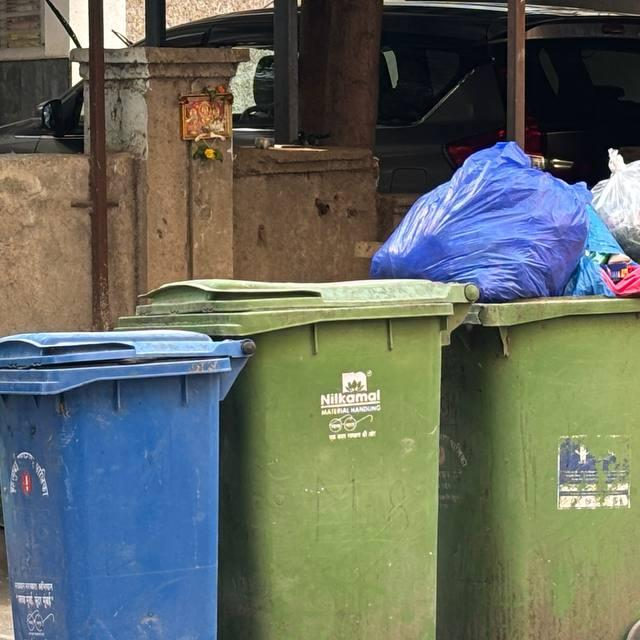plastic: (228, 294, 450, 640), (0, 356, 228, 640), (482, 296, 640, 640), (368, 138, 580, 290), (586, 142, 640, 283)
